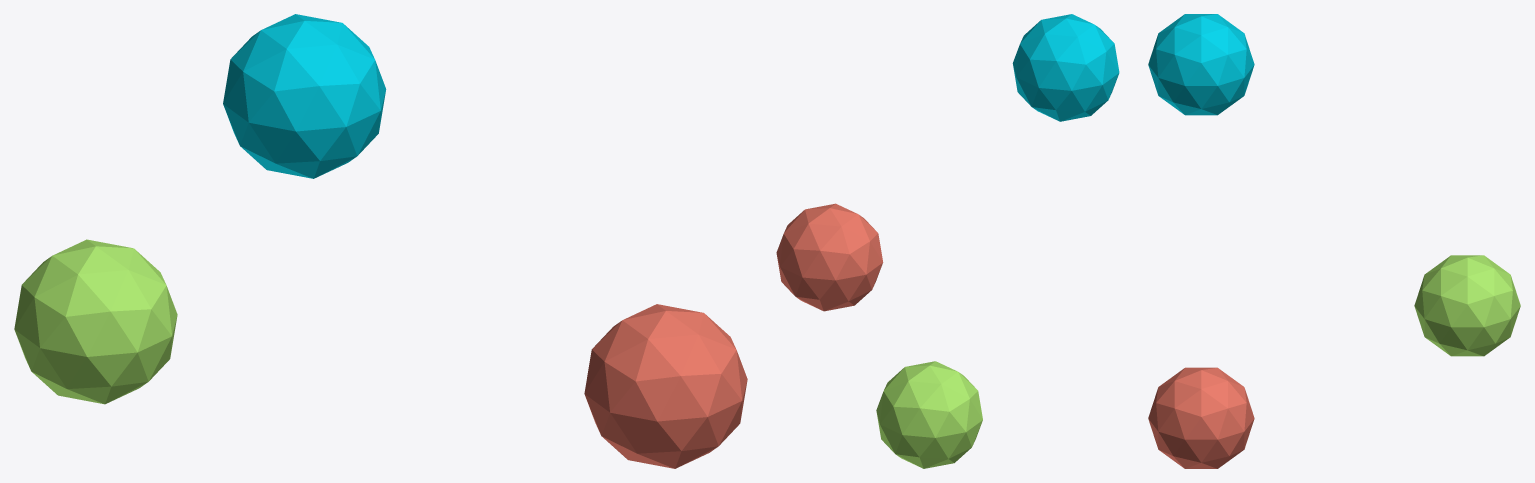
File: axesSpheres.glb
3 renders of one model, left to right at view 1: azimuth 30°, elevation 25°; view 2: azimuth 150°, elevation 25°; view 3: azimuth 270°, elevation 25°, orthographic. The views are drawn at different scales.
Visible parts, largest first — view 1: Icosphere, Icosphere.001, Icosphere.002; view 2: Icosphere.001, Icosphere, Icosphere.002; view 3: Icosphere, Icosphere.001, Icosphere.002.
Boxes of the visible parts, bbox=[...] form: Icosphere: bbox=[14, 239, 177, 404]; Icosphere.001: bbox=[584, 304, 747, 468]; Icosphere.002: bbox=[223, 14, 386, 178]; Icosphere.001: bbox=[776, 203, 883, 311]; Icosphere: bbox=[876, 361, 982, 468]; Icosphere.002: bbox=[1012, 14, 1119, 121]; Icosphere: bbox=[1414, 255, 1520, 356]; Icosphere.001: bbox=[1148, 367, 1254, 468]; Icosphere.002: bbox=[1148, 14, 1254, 115].
Bounding box in the file's own units: 6.9 × 7 × 7.
